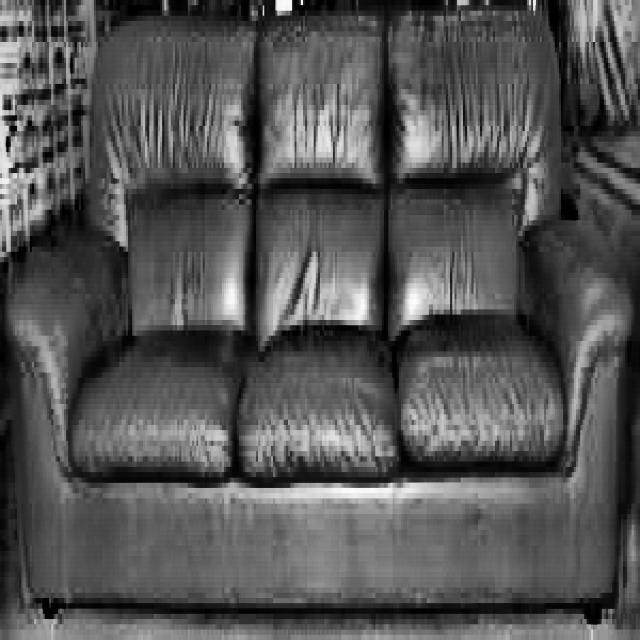sofa: (9, 0, 636, 624)
